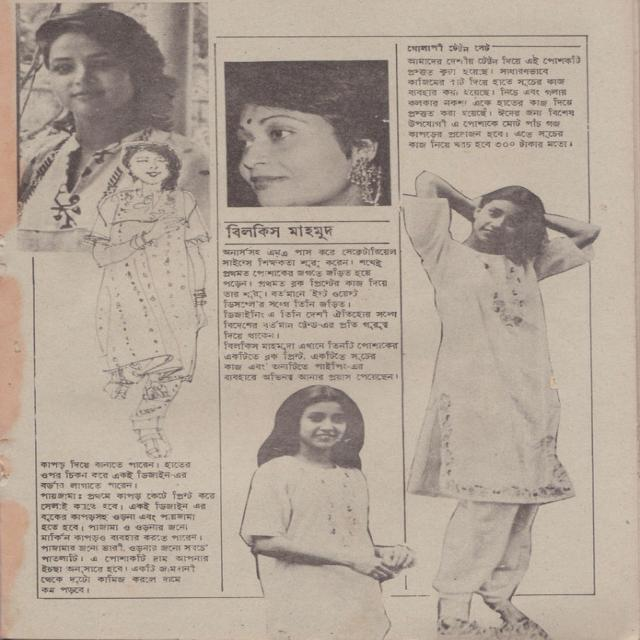image: (10, 0, 212, 458), (403, 172, 600, 639), (240, 385, 414, 640), (226, 60, 391, 206)
paragraph: (215, 244, 404, 388), (29, 456, 221, 597), (400, 51, 590, 156)
title: (221, 220, 343, 247), (402, 40, 494, 54)
